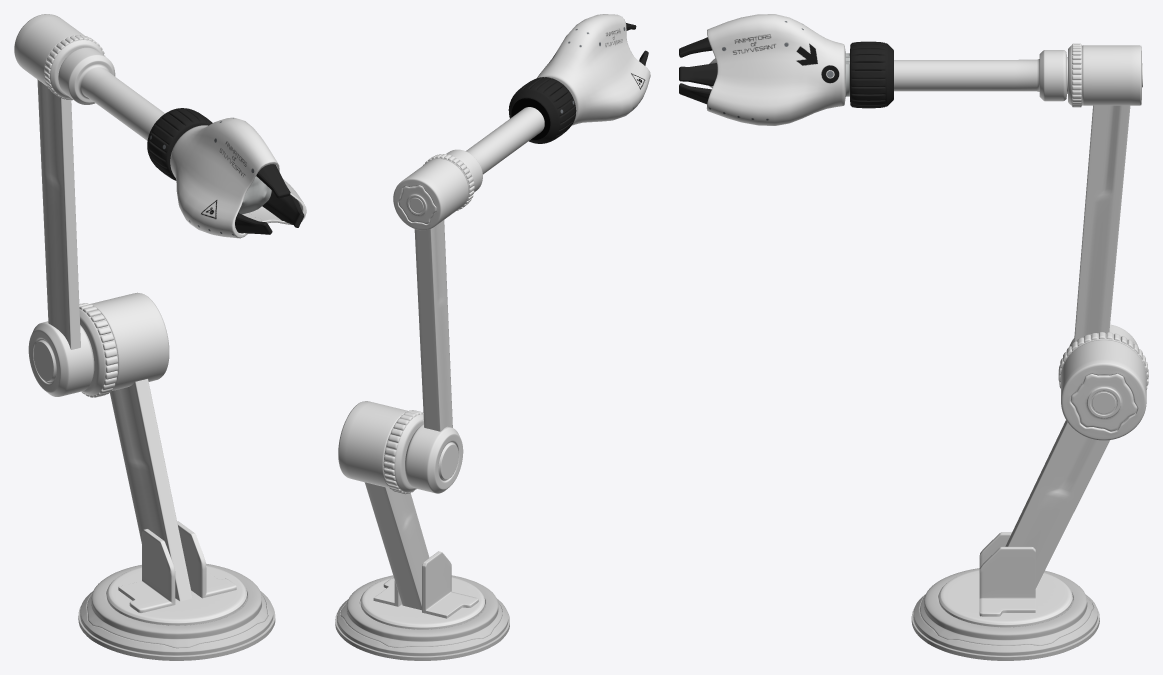
The model's file is new_arm.fbx.
3 renders of one model, left to right at view 1: azimuth 30°, elevation 25°; view 2: azimuth 150°, elevation 25°; view 3: azimuth 270°, elevation 25°, orthographic. The views are drawn at different scales.
Visible parts, largest first — view 1: Plane, Plane.002, Plane.003, Plane.001; view 2: Plane, Plane.003, Plane.002, Plane.001; view 3: Plane.002, Plane, Plane.003, Plane.001.
Part boxes in pixels (x1,y1,x2,y2): Plane: (79,292,246,625); Plane.002: (58,47,306,238); Plane.003: (14,14,104,396); Plane.001: (78,563,275,660); Plane: (338,401,485,629); Plane.003: (393,154,474,493); Plane.002: (446,14,650,191); Plane.001: (335,575,509,660); Plane.002: (679,14,1066,125); Plane: (938,332,1148,627); Plane.003: (1067,43,1142,349); Plane.001: (911,568,1099,660).
Size of the model in its own units: 426 by 1231 by 910.
